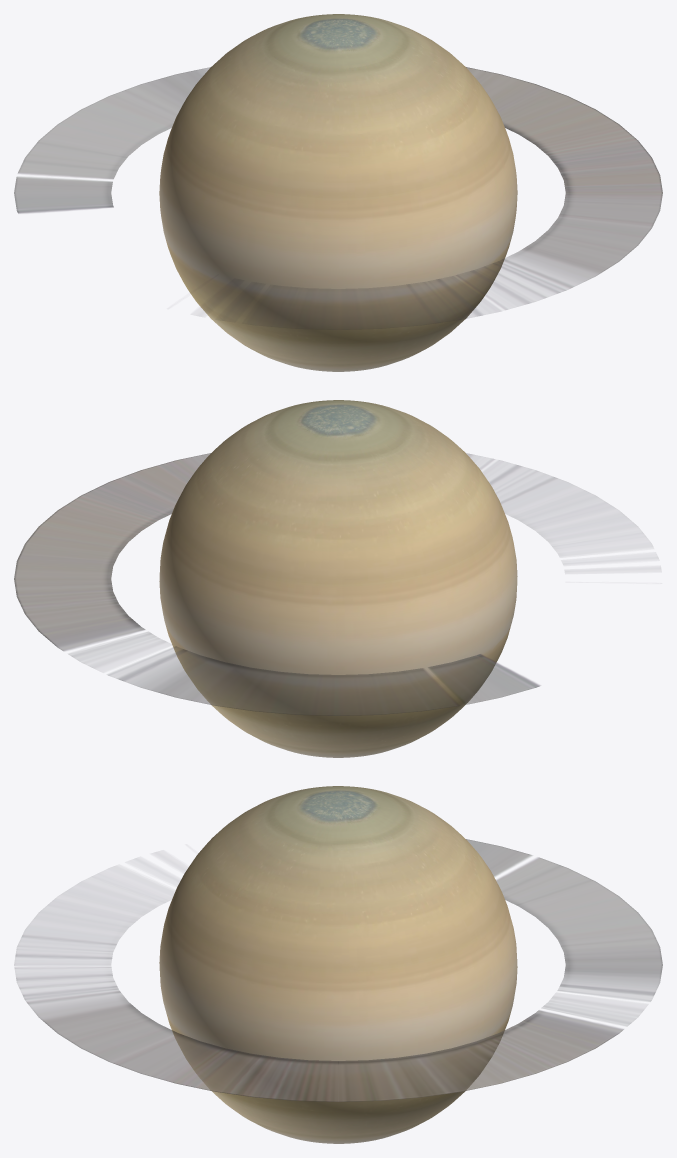
Rendered from saturn.glb.
3 views of the same model, one above another, from view 1: azimuth 30°, elevation 25°; view 2: azimuth 150°, elevation 25°; view 3: azimuth 270°, elevation 25° (orthographic).
Visible parts, largest first — view 1: Sphere.001, Torus; view 2: Sphere.001, Torus; view 3: Sphere.001, Torus.
Part boxes in pixels (x1,y1,x2,y2): Sphere.001: [159, 14, 517, 371]; Torus: [14, 67, 662, 329]; Sphere.001: [159, 400, 517, 757]; Torus: [14, 453, 642, 715]; Sphere.001: [159, 786, 517, 1143]; Torus: [14, 839, 662, 1101].
Size of the model in its own units: 3.66 by 2.02 by 3.66.
Materials: 2 (2 with a texture image).
